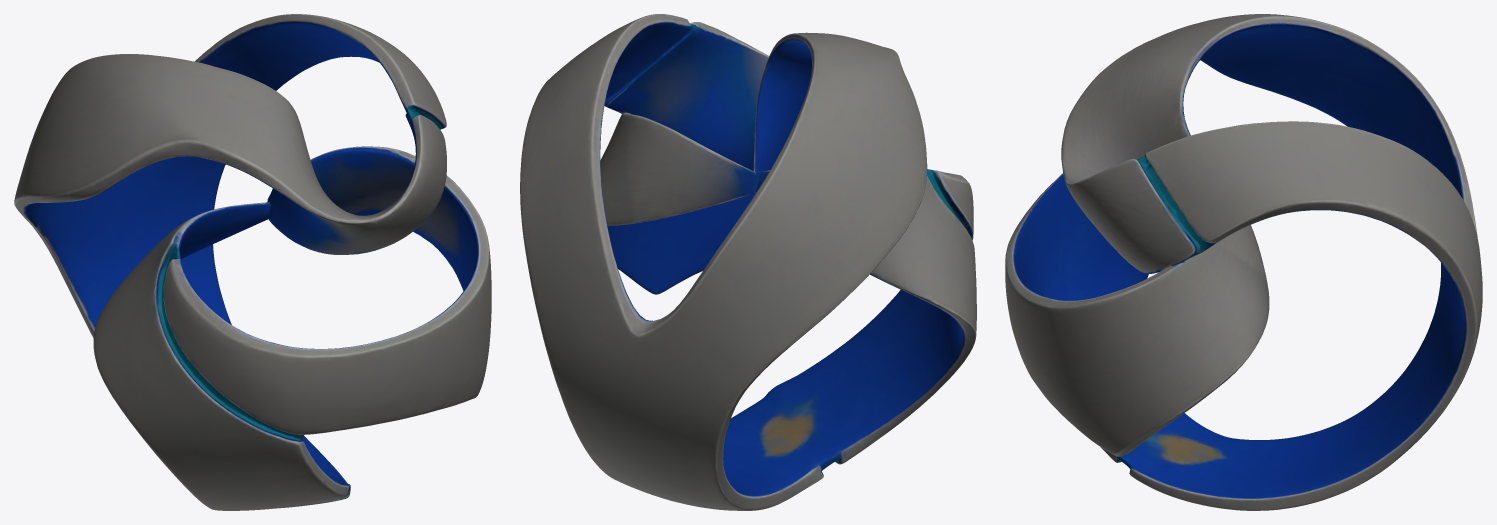
The model's file is flow-sculpture.glb.
3 renders of one model, left to right at view 1: azimuth 30°, elevation 25°; view 2: azimuth 150°, elevation 25°; view 3: azimuth 270°, elevation 25°, orthographic. The views are drawn at different scales.
Visible parts, largest first — view 1: tripo_node_edabcafb-9b16-4928-9093-2ceb4d3d1242; view 2: tripo_node_edabcafb-9b16-4928-9093-2ceb4d3d1242; view 3: tripo_node_edabcafb-9b16-4928-9093-2ceb4d3d1242.
Part boxes in pixels (bbox=[...]): tripo_node_edabcafb-9b16-4928-9093-2ceb4d3d1242: bbox=[14, 14, 491, 510]; tripo_node_edabcafb-9b16-4928-9093-2ceb4d3d1242: bbox=[520, 14, 976, 510]; tripo_node_edabcafb-9b16-4928-9093-2ceb4d3d1242: bbox=[1005, 14, 1482, 510].
Size of the model in its own units: 0.8673 by 0.9802 by 0.9768.
Materials: 1 (1 with a texture image).
